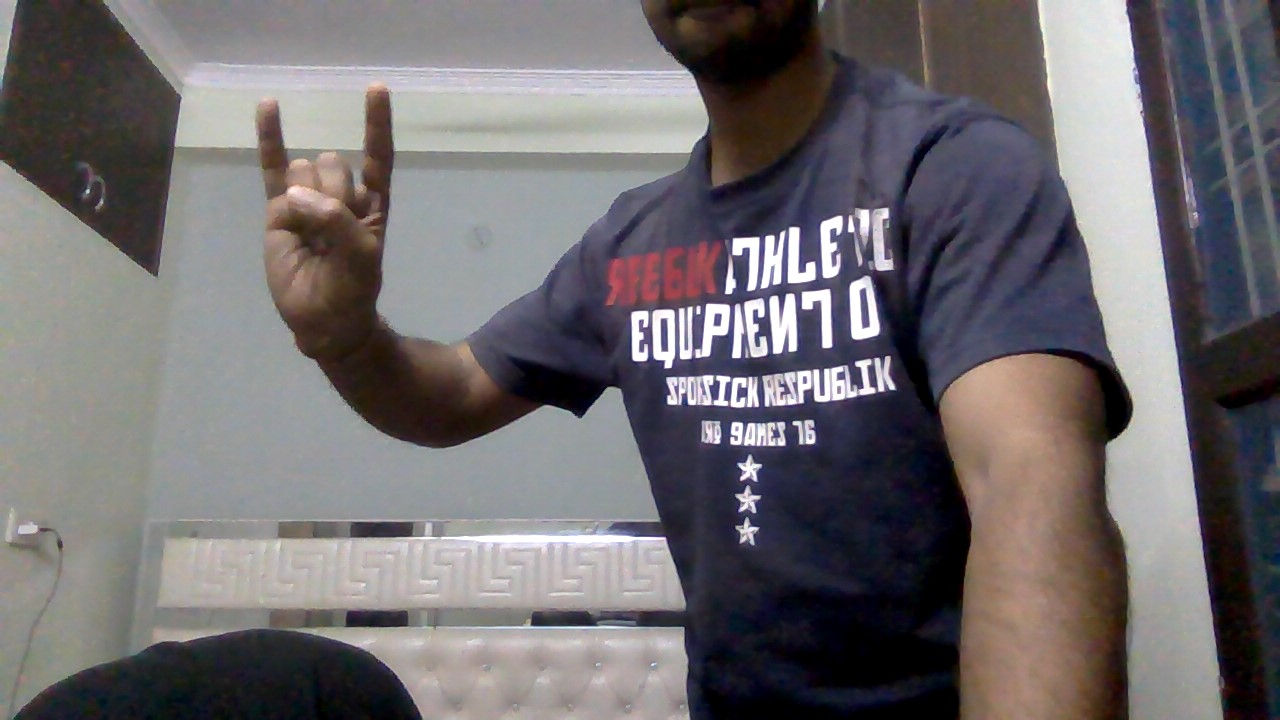Select All: (242, 74, 421, 343)
